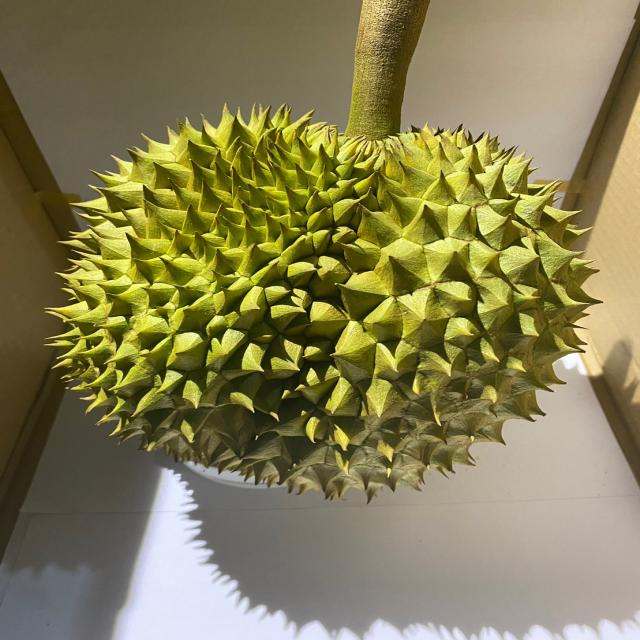immature: (41, 98, 603, 502)
